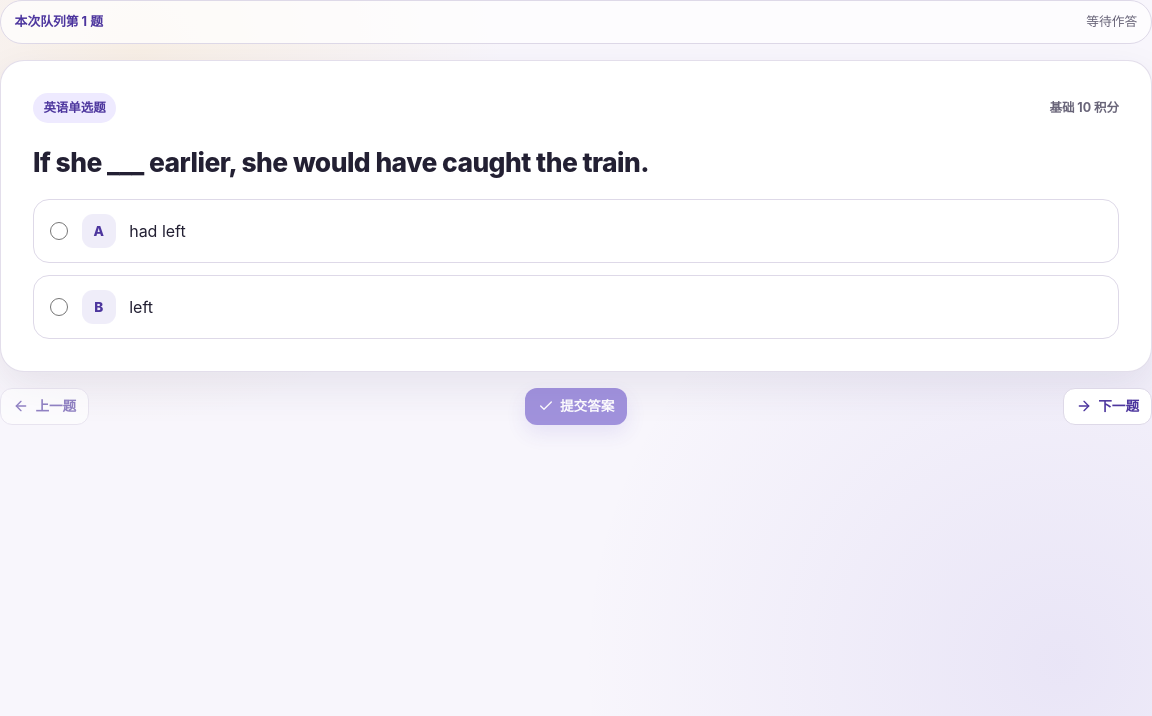
Test: 随机练习队列 › 答错时同时显示正确答案、解析和累计错误次数
Click the radio button labelled "B left".
click(59, 307)  # box [50,298,68,316]
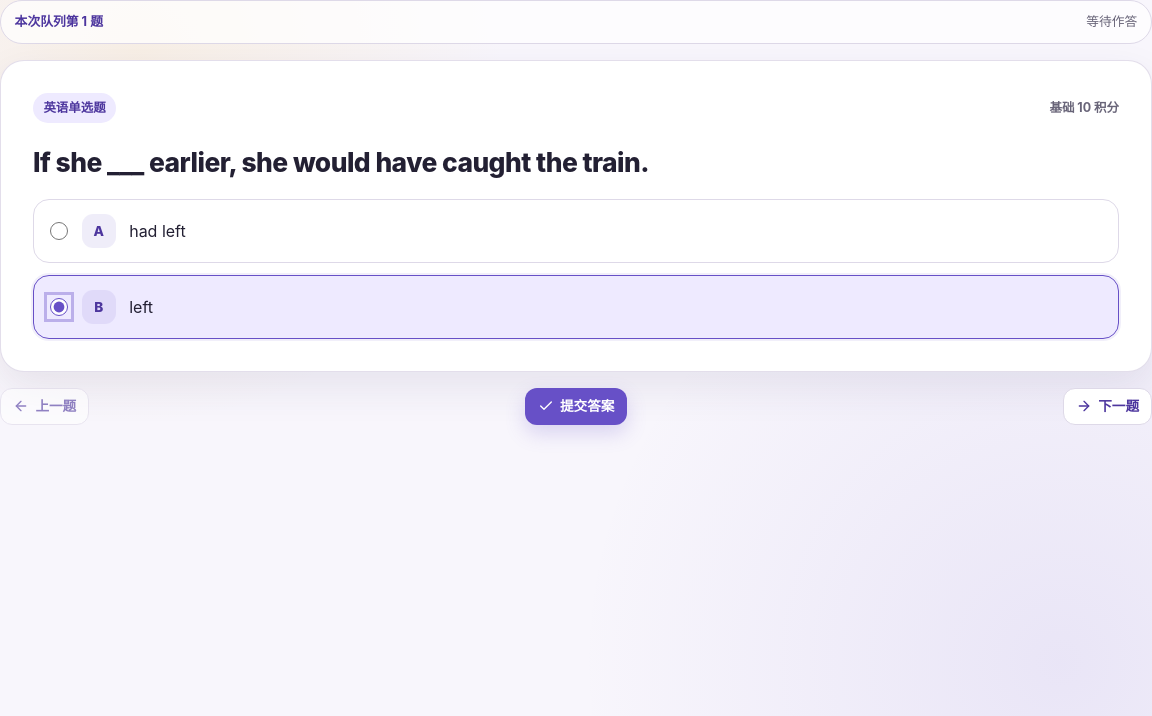
Click the button "提交答案".
click(576, 406)  # box [525,388,627,425]
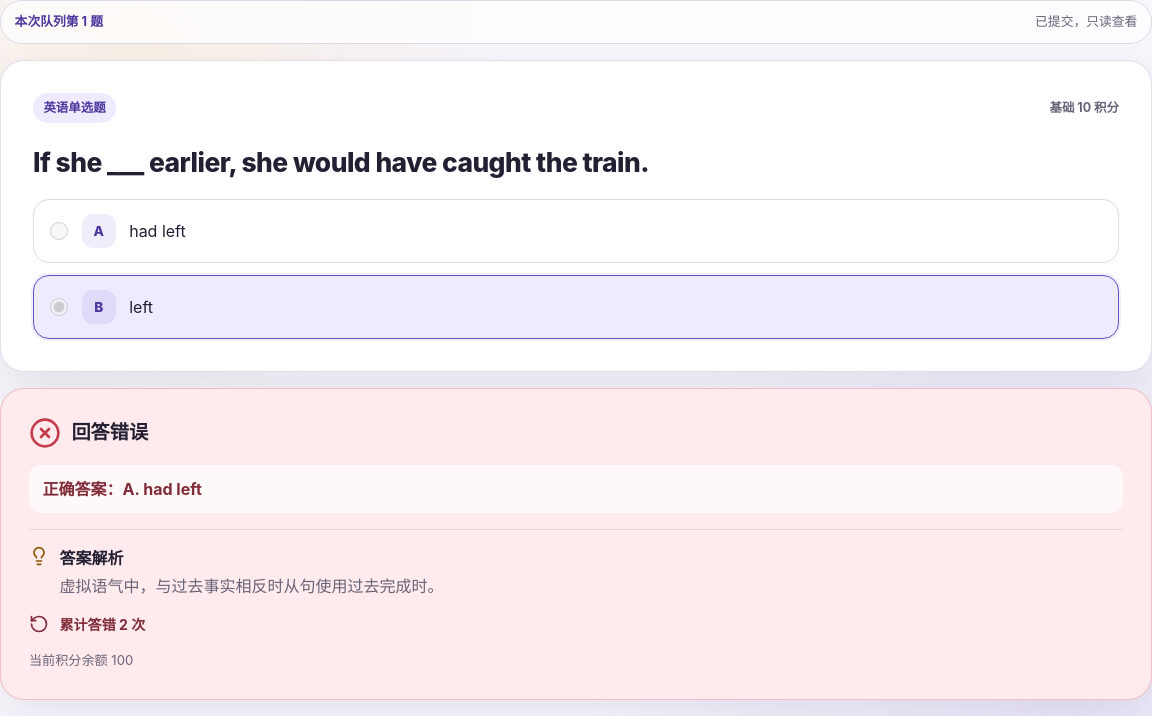
Now the heading "回答错误" is shown, box [71,418,148,447]
Now the text "正确答案：A. had left" is shown, box [29,465,1123,513]
Now the text "虚拟语气中，与过去事实相反时从句使用过去完成时。" is shown, box [59,574,443,598]
